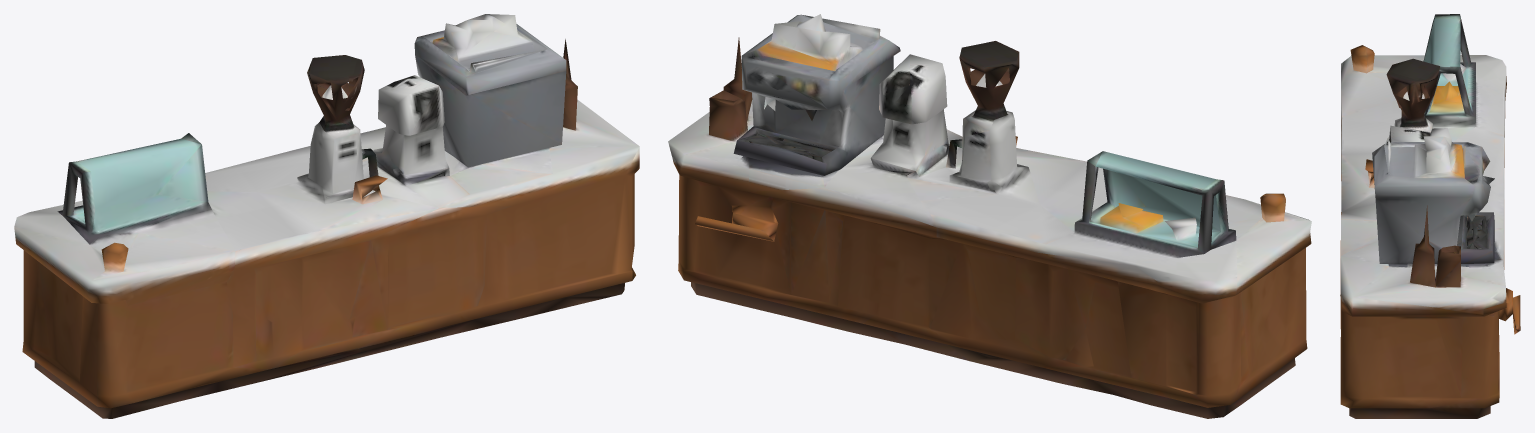
Rendered from shop-cafe.glb.
3 views of the same model, side by side, from view 1: azimuth 30°, elevation 25°; view 2: azimuth 150°, elevation 25°; view 3: azimuth 270°, elevation 25° (orthographic). The views are drawn at different scales.
Parts seen in each view (by area): view 1: tripo_node_1eec2837-29fc-4100-b67a-9125aad3090c; view 2: tripo_node_1eec2837-29fc-4100-b67a-9125aad3090c; view 3: tripo_node_1eec2837-29fc-4100-b67a-9125aad3090c.
Part boxes in pixels (bbox=[...]): tripo_node_1eec2837-29fc-4100-b67a-9125aad3090c: bbox=[14, 14, 639, 418]; tripo_node_1eec2837-29fc-4100-b67a-9125aad3090c: bbox=[668, 14, 1311, 418]; tripo_node_1eec2837-29fc-4100-b67a-9125aad3090c: bbox=[1340, 14, 1520, 418].
Size of the model in its own units: 3 by 1.38 by 0.9387.
Materials: 1 (1 with a texture image).
